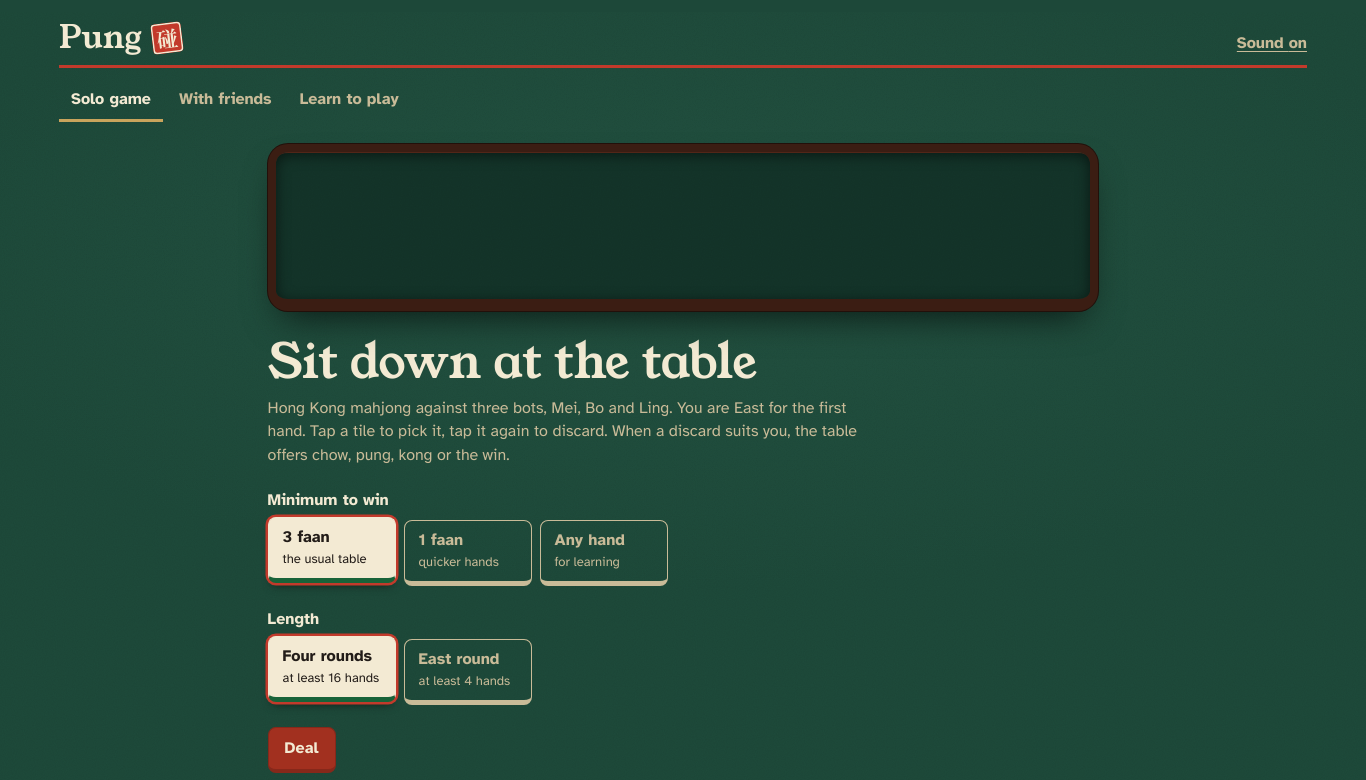
Scenario: App › opens on the lobby and deals a hand
Expected: the heading "Sit down at the table" is shown, [268, 328, 757, 396]
Click the radio button labelled "Any hand for learning". click: (604,553)
box: [540, 520, 668, 586]
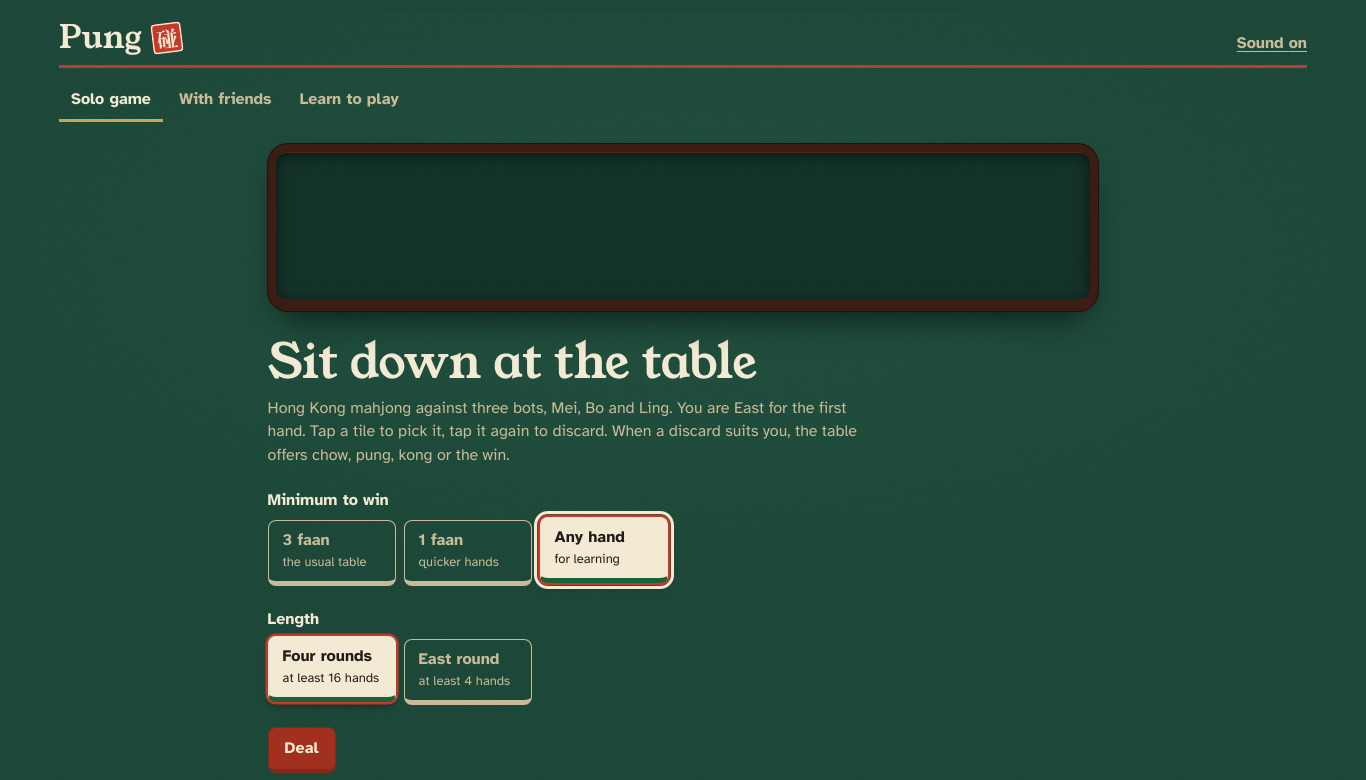
Click the button "Deal". click: (302,750)
box: [268, 727, 336, 773]
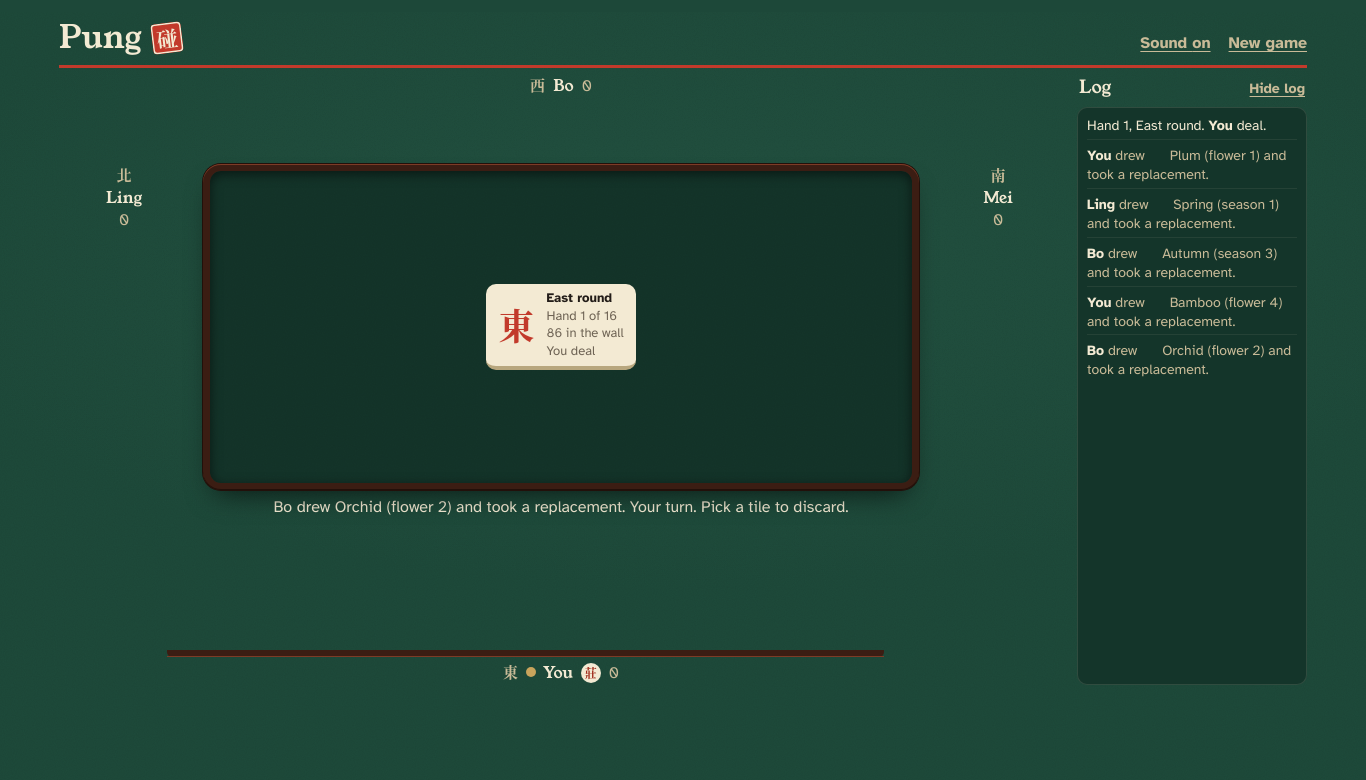
Expected: the message shows "Your turn", [274, 498, 849, 518]
Expected: the text "East round" is shown, [546, 290, 612, 306]
